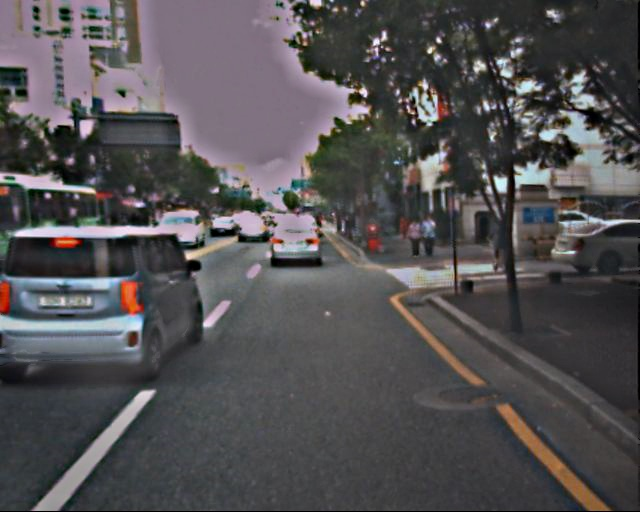person: (491, 216, 513, 269), (422, 212, 440, 257), (407, 218, 424, 260)
